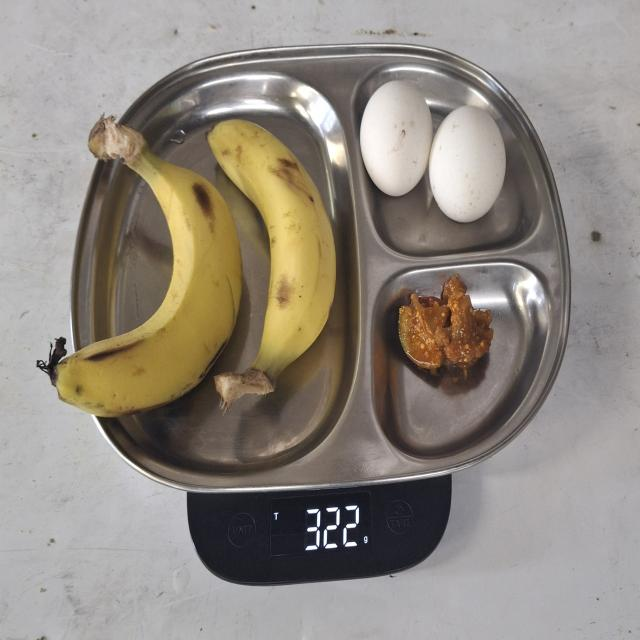Achar: (393, 270, 498, 374)
Banana: (39, 113, 340, 418)
Boiled Egg: (361, 74, 509, 232)
